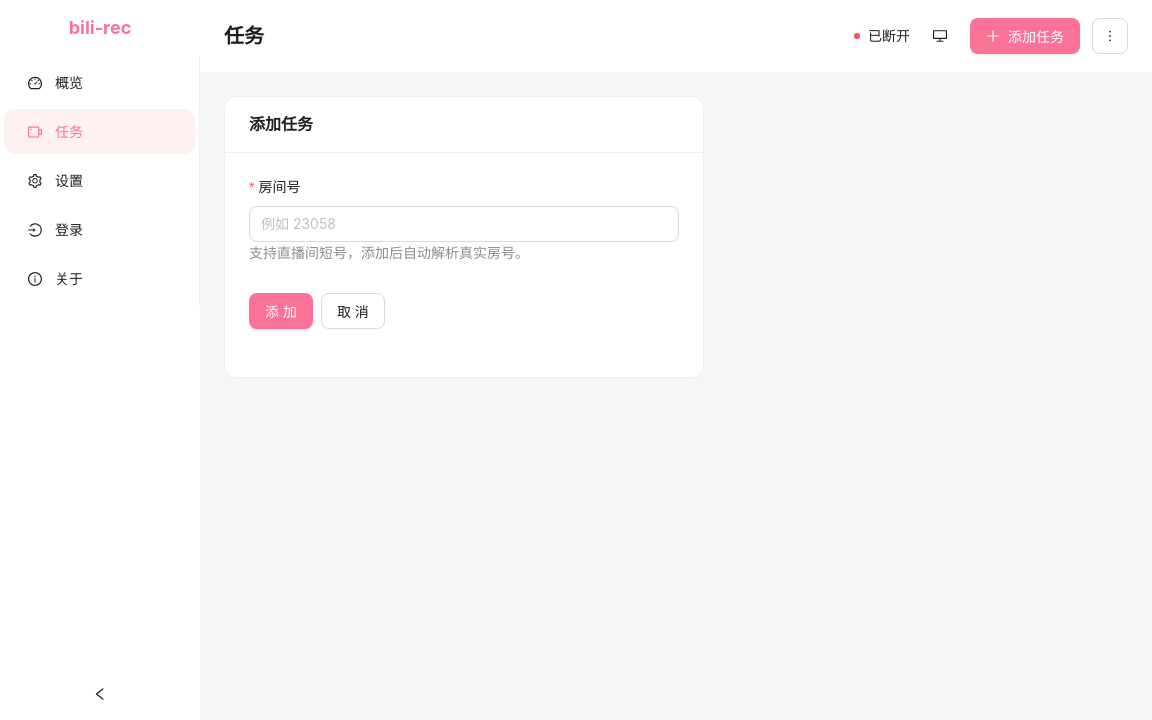
Test case: 添加任务页 › 校验必填
Click the button "添 加" at [281, 311], box 249,293 -> 313,329
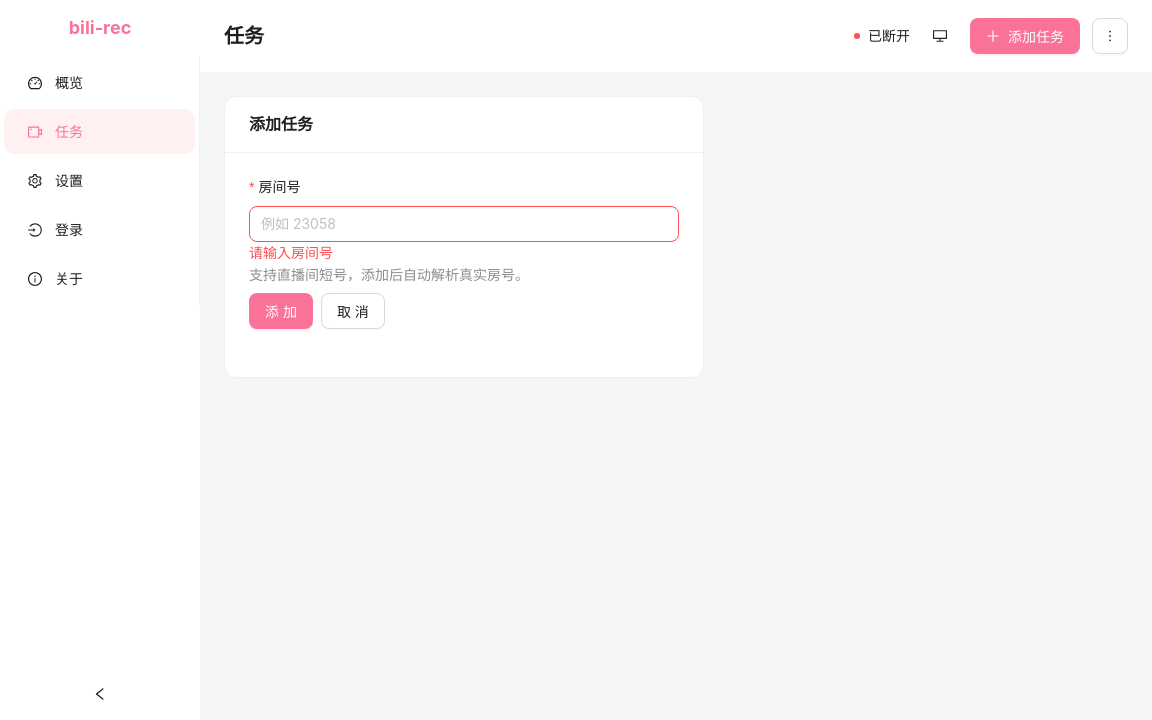
Expected: the text "请输入房间号" is shown, 249,244 -> 333,261
